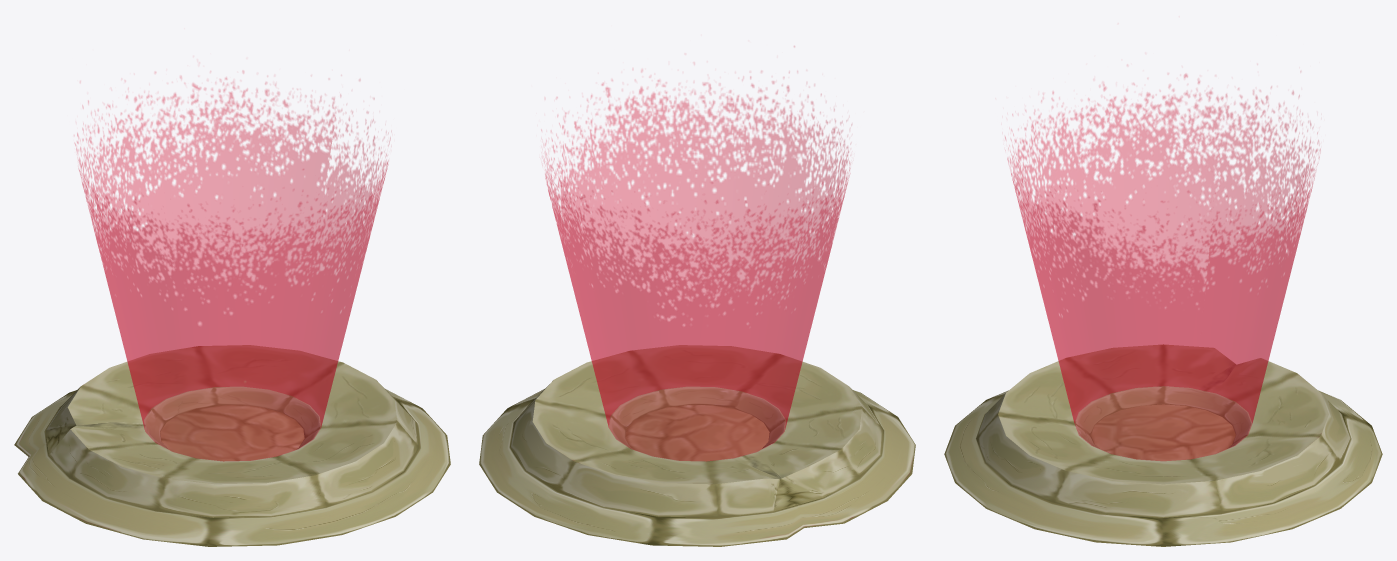
Rendered from teleporter.glb.
3 views of the same model, side by side, from view 1: azimuth 30°, elevation 25°; view 2: azimuth 150°, elevation 25°; view 3: azimuth 270°, elevation 25° (orthographic).
Visible parts, largest first — view 1: polySurface1, pCylinder2; view 2: polySurface1, pCylinder2; view 3: polySurface1, pCylinder2.
Boxes of the visible parts, x1=… form: polySurface1: x1=75, y1=71, x2=390, y2=461; pCylinder2: x1=14, y1=345, x2=450, y2=546; polySurface1: x1=541, y1=46, x2=850, y2=461; pCylinder2: x1=479, y1=345, x2=915, y2=546; polySurface1: x1=1005, y1=74, x2=1320, y2=460; pCylinder2: x1=944, y1=344, x2=1382, y2=546.
Size of the model in its own units: 0.1718 by 0.1585 by 0.1718.
2 materials, 2 textured.
